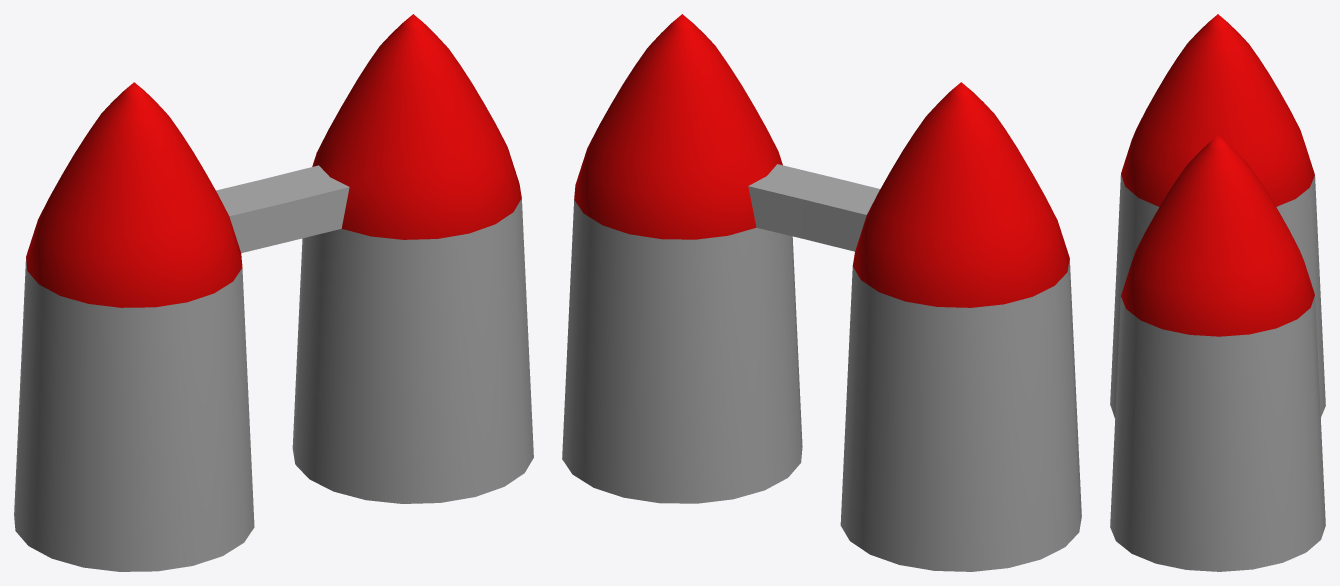
Rendered from jetPack.fbx.
The picture shows the model from 3 angles, left to right: view 1: azimuth 30°, elevation 25°; view 2: azimuth 150°, elevation 25°; view 3: azimuth 270°, elevation 25°; orthographic projection. The views are drawn at different scales.
Visible parts, largest first — view 1: pCone3; view 2: pCone3; view 3: pCone3.
Part boxes in pixels (x1,y1,x2,y2): pCone3: [14, 14, 533, 571]; pCone3: [562, 14, 1081, 571]; pCone3: [1110, 14, 1325, 571].
Size of the model in its own units: 23.3 by 20 by 10.
